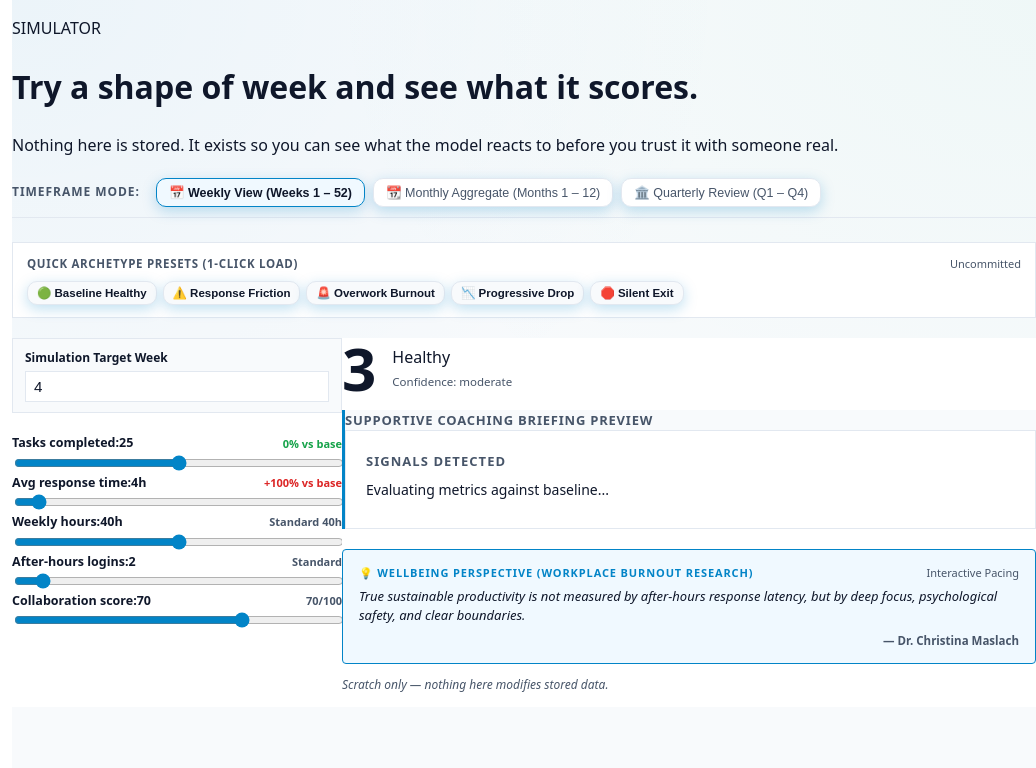
Test: Simulator › reacts to slider change
The image size is (1036, 768).
Set the slider labelled "Tasks completed: 25" to "35" at [242, 463], box x1=14 y1=455 x2=344 y2=471
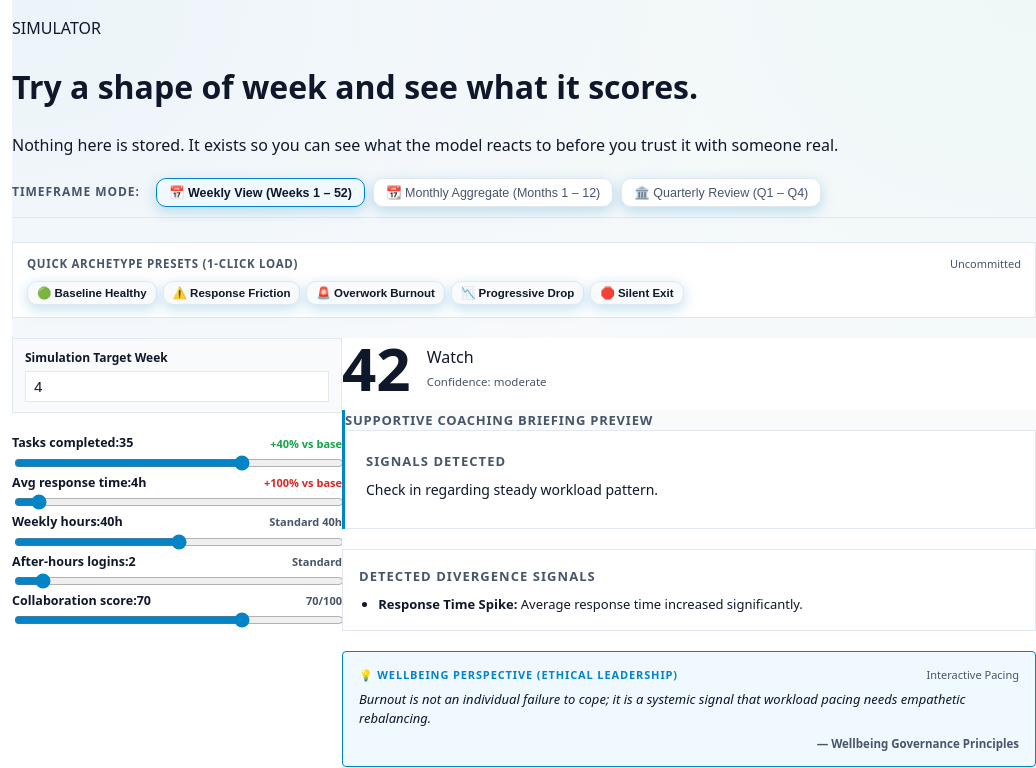
Result: the text "35" is shown at x1=119 y1=434 x2=133 y2=453
